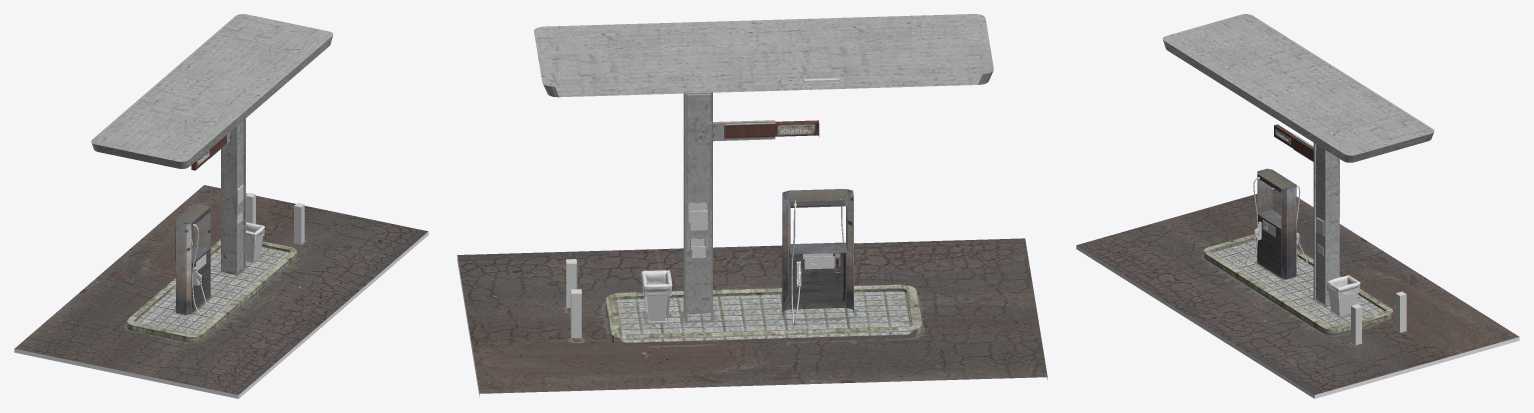
The model's file is Gas stationhill.fbx.
3 renders of one model, left to right at view 1: azimuth 30°, elevation 25°; view 2: azimuth 150°, elevation 25°; view 3: azimuth 270°, elevation 25°, orthographic. The views are drawn at different scales.
Parts seen in each view (by area): view 1: _1_большая_часть__001, _2_шланнги_и_мусорка_001, _5_нижняя_платформа_без_текструры_001; view 2: _1_большая_часть__001, _2_шланнги_и_мусорка_001; view 3: _1_большая_часть__001, _2_шланнги_и_мусорка_001, _5_нижняя_платформа_без_текструры_001.
Part boxes in pixels (left/top/right/bottom): _1_большая_часть__001: left=15, top=14, right=427, bottom=394; _2_шланнги_и_мусорка_001: left=188, top=185, right=304, bottom=314; _5_нижняя_платформа_без_текструры_001: left=14, top=231, right=428, bottom=398; _1_большая_часть__001: left=457, top=14, right=1047, bottom=393; _2_шланнги_и_мусорка_001: left=566, top=199, right=844, bottom=341; _1_большая_часть__001: left=1076, top=14, right=1519, bottom=394; _2_шланнги_и_мусорка_001: left=1245, top=177, right=1406, bottom=345; _5_нижняя_платформа_без_текструры_001: left=1076, top=245, right=1519, bottom=398.
Size of the model in its own units: 3611 by 1666 by 3252.
Materials: 5 (1 with a texture image).
